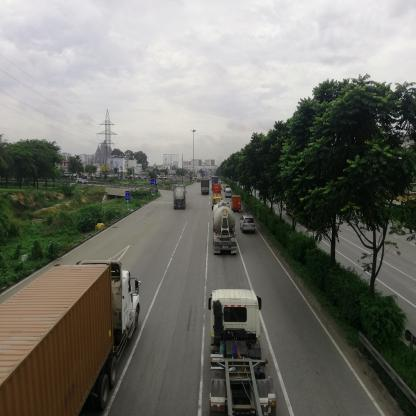car: (241, 216, 255, 234), (226, 190, 233, 198)
container: (2, 259, 142, 416), (214, 184, 222, 206)
truck: (212, 290, 269, 416), (215, 203, 234, 256), (173, 186, 188, 211), (233, 198, 244, 212), (202, 181, 210, 195), (76, 179, 90, 185)
